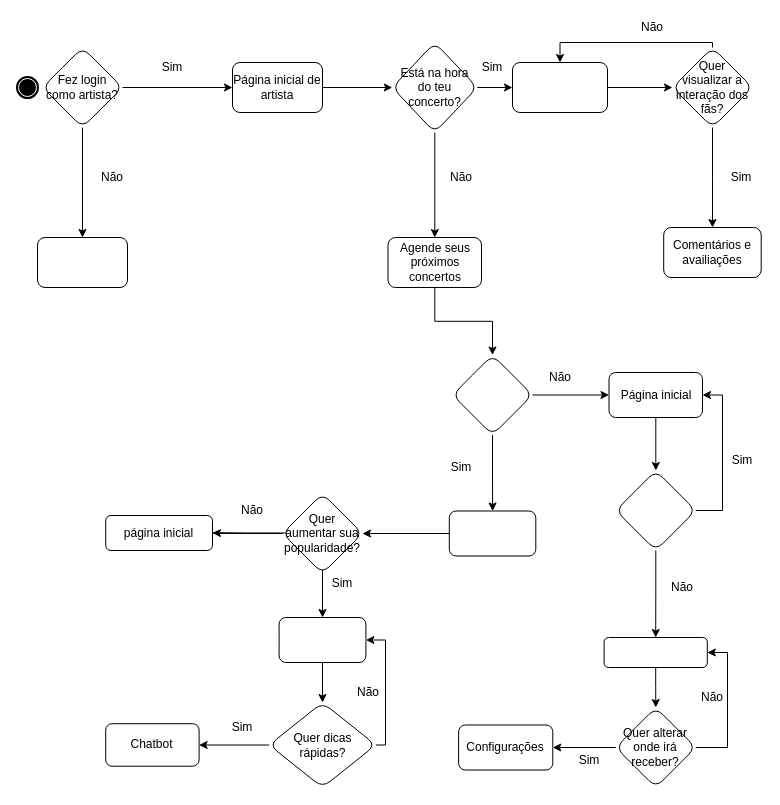
Some shapes in this 780 by 805 pixel diagram are drawn without their labels. Here are the shapes that lost their labels. From the top down, the centre of each, then its label:
At point (560, 87): "Transmissão em direto".
At point (82, 262): "Faça login ou cadastro".
At point (492, 394): "Quer acompanhar seu histórico?".
At point (655, 510): "Já sabe o quanto tem para receber?".
At point (492, 533): "Histórico de alterações".
At point (322, 639): "Assistente pessoal".
At point (655, 652): "Carteira".
